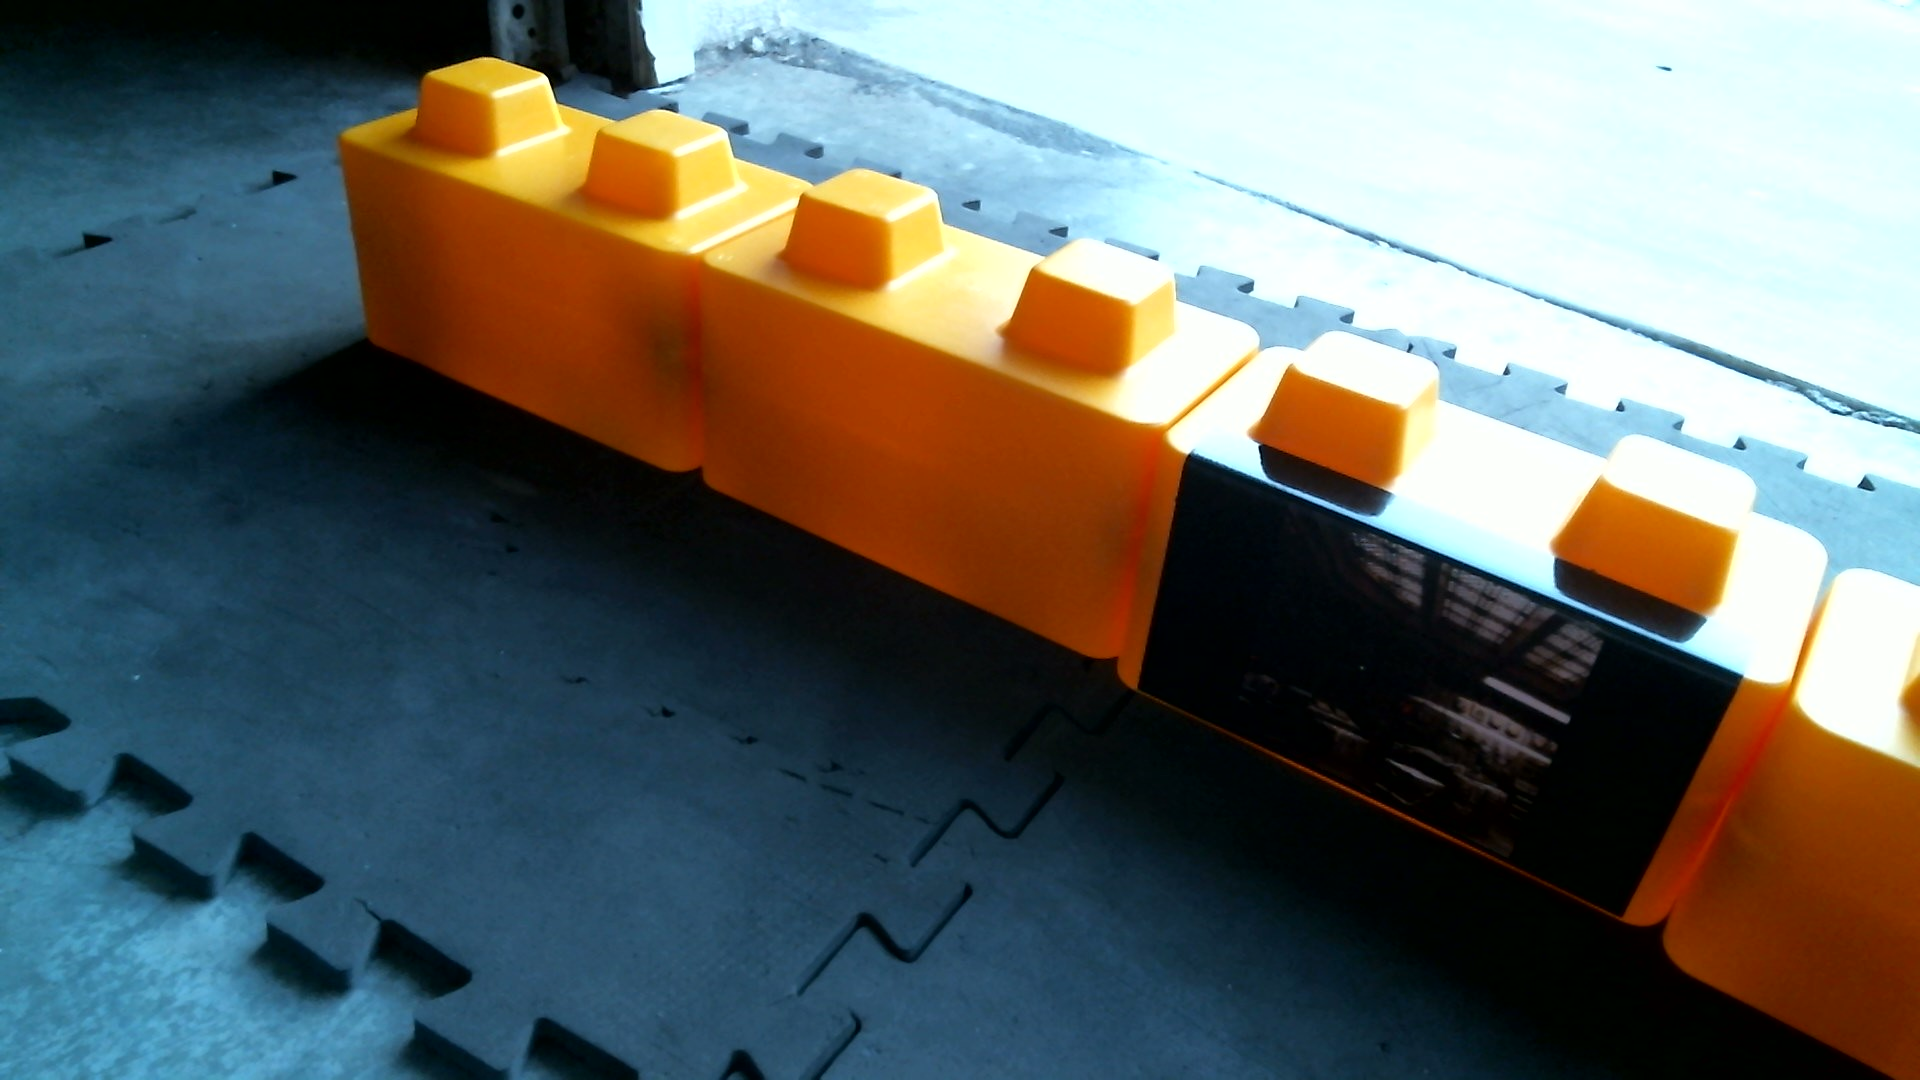right: (322, 54, 1855, 971)
